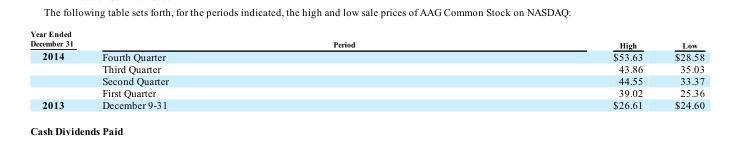table: (29, 28, 703, 110)
table column: (87, 28, 483, 110), (483, 28, 658, 110), (29, 28, 87, 110), (658, 28, 703, 110)
table column header: (29, 28, 703, 49)
table row: (29, 28, 703, 49), (29, 49, 703, 62), (29, 62, 703, 74), (29, 74, 703, 86), (29, 86, 703, 98), (29, 98, 703, 110)
table spanning cell: (29, 49, 87, 98)
